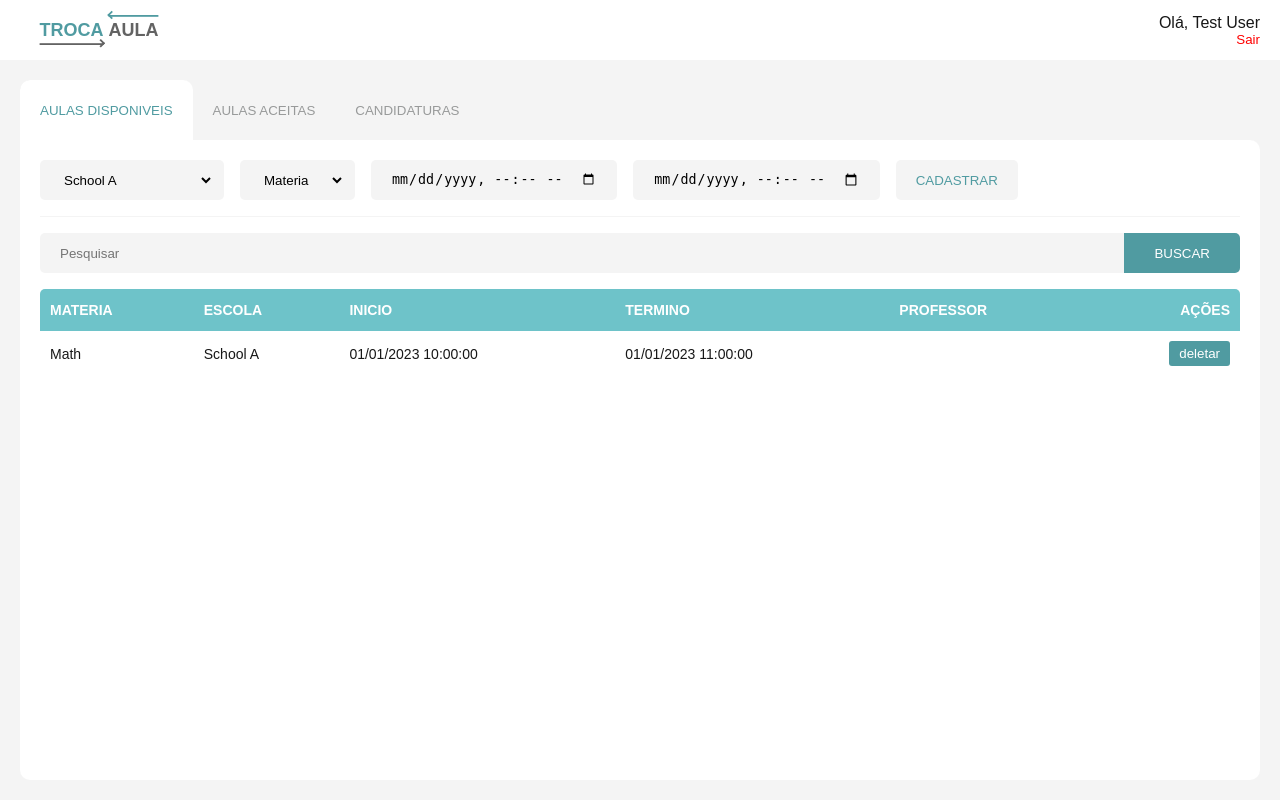
it: Dashboard Page › filters classes based on tabs
Check: the cell "Math" is shown, box [40, 331, 194, 376]
Check: the cell "Science" is not shown
Click the button "Aulas aceitas" at (264, 110), box [193, 80, 335, 140]
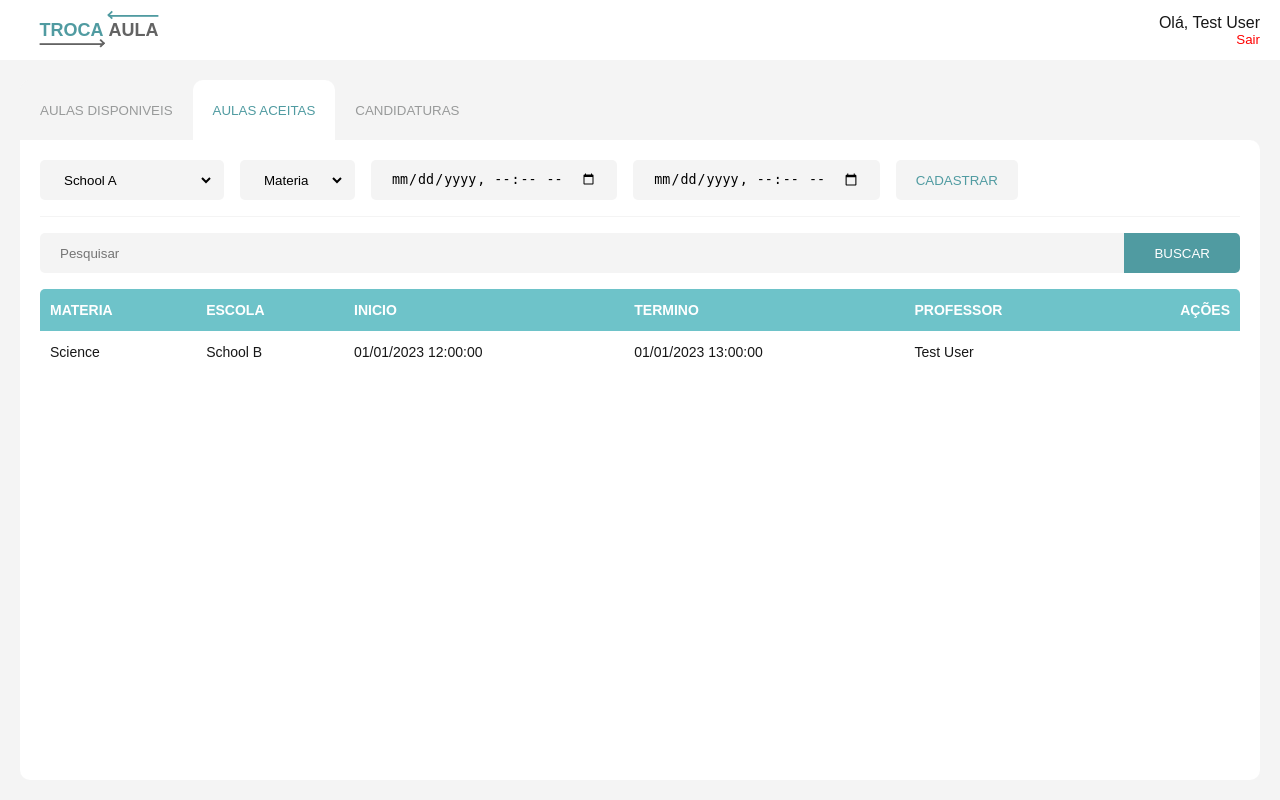
Check: the cell "Science" is shown, box [40, 331, 196, 373]
Check: the cell "Math" is gone
